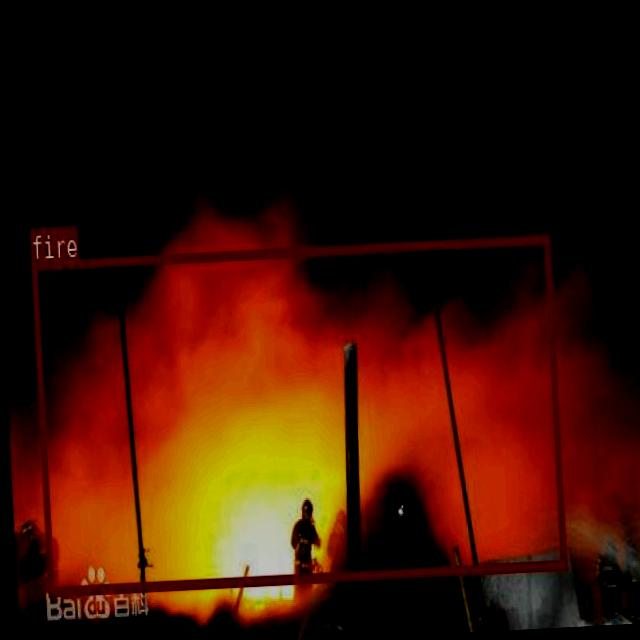fire: (31, 232, 566, 596)
